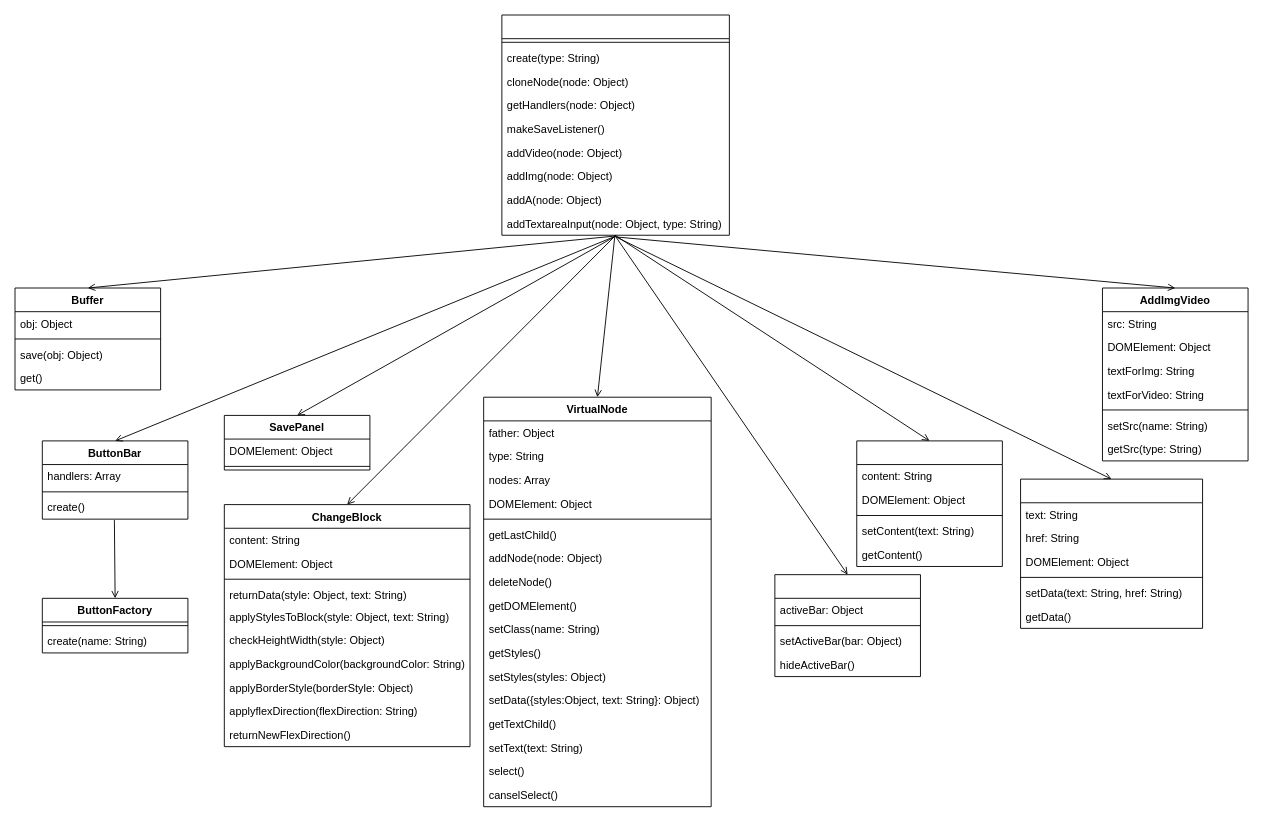
The diagram is 1263 pixels wide and 822 high, and some of its shapes have lost their labels. Each missing label, with the box of its shape:
ActiveBarBuffer: (774, 574, 920, 677)
AddA: (1020, 478, 1203, 628)
AddBlock: (856, 440, 1002, 566)
VirtualNodeFactory: (501, 14, 729, 235)
